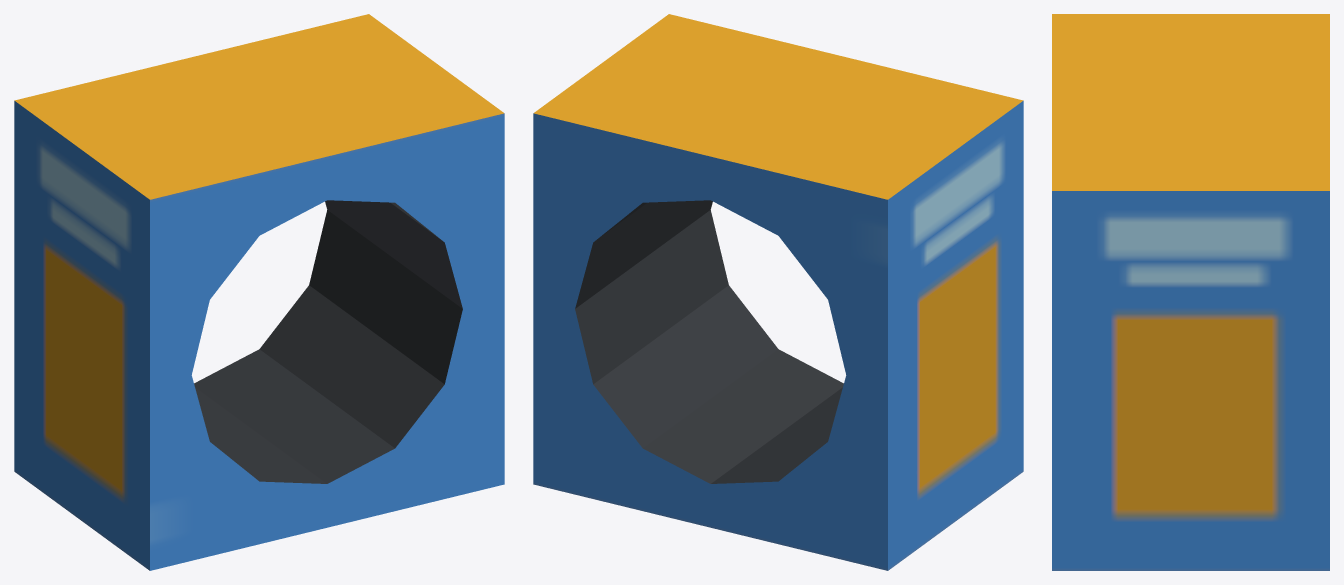
File: SM_Prop_Sport_Basketball_Box_01.fbx
The picture shows the model from 3 angles, left to right: view 1: azimuth 30°, elevation 25°; view 2: azimuth 150°, elevation 25°; view 3: azimuth 270°, elevation 25°; orthographic projection. The views are drawn at different scales.
Parts seen in each view (by area): view 1: SM_Prop_Sport_Basketball_Box_01; view 2: SM_Prop_Sport_Basketball_Box_01; view 3: SM_Prop_Sport_Basketball_Box_01.
Boxes of the visible parts, x1,y1,x2,y2 form: SM_Prop_Sport_Basketball_Box_01: (14,14,504,570); SM_Prop_Sport_Basketball_Box_01: (533,14,1023,570); SM_Prop_Sport_Basketball_Box_01: (1052,14,1329,570).
Size of the model in its own units: 31.18 by 31.18 by 20.67.
